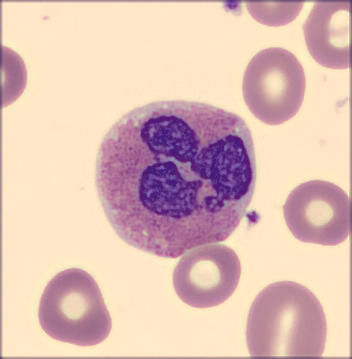EO: (95, 99, 259, 258)
PLT: (242, 209, 260, 228), (222, 1, 242, 18)
RBC: (245, 279, 328, 357), (39, 268, 117, 347), (240, 47, 308, 126), (172, 243, 241, 313), (283, 178, 352, 248), (301, 1, 352, 72), (1, 43, 31, 113), (244, 1, 303, 29)
